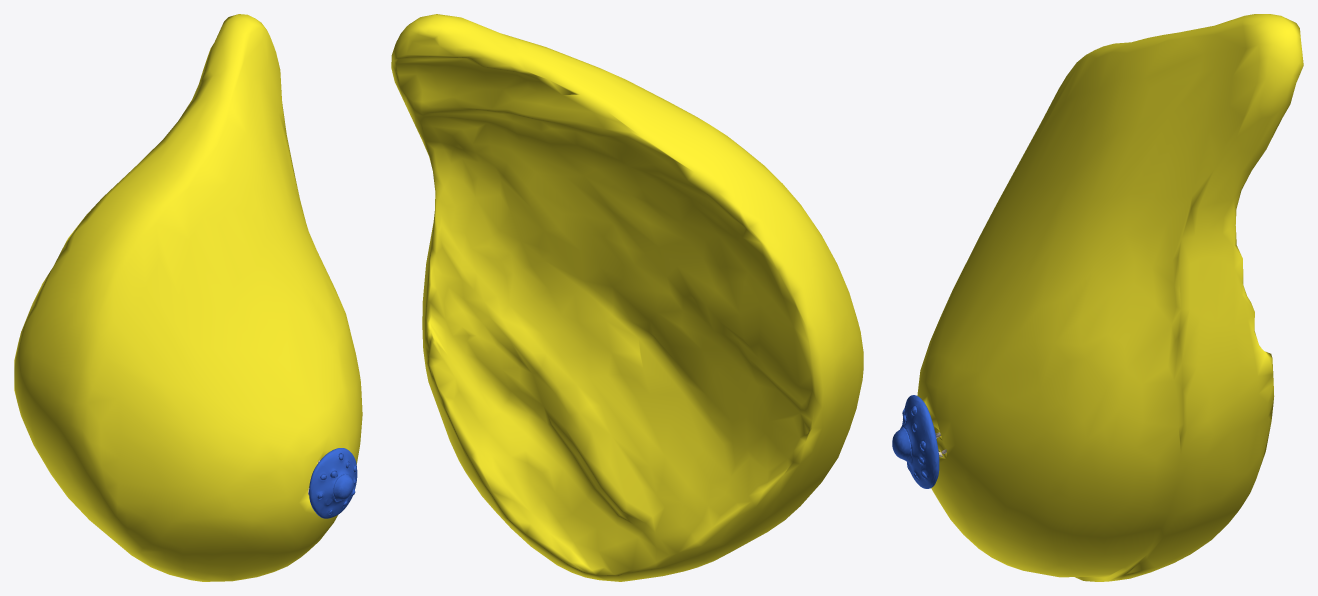
Rendered from 3d-vh-f-mammary-gland-l_lod_20.glb.
3 renders of one model, left to right at view 1: azimuth 30°, elevation 25°; view 2: azimuth 150°, elevation 25°; view 3: azimuth 270°, elevation 25°, orthographic. The views are drawn at different scales.
Visible parts, largest first — view 1: VH_F_fat_L, VH_F_areola_L; view 2: VH_F_fat_L; view 3: VH_F_fat_L, VH_F_areola_L, VH_F_nipple_L.
Part boxes in pixels (left/top/right/bottom): VH_F_fat_L: left=14, top=14, right=362, bottom=581; VH_F_areola_L: left=309, top=448, right=357, bottom=518; VH_F_fat_L: left=391, top=14, right=863, bottom=581; VH_F_fat_L: left=917, top=14, right=1303, bottom=581; VH_F_areola_L: left=900, top=395, right=939, bottom=488; VH_F_nipple_L: left=892, top=427, right=912, bottom=463.
Bounding box in the file's own units: 0.1283 × 0.1819 × 0.1119.
